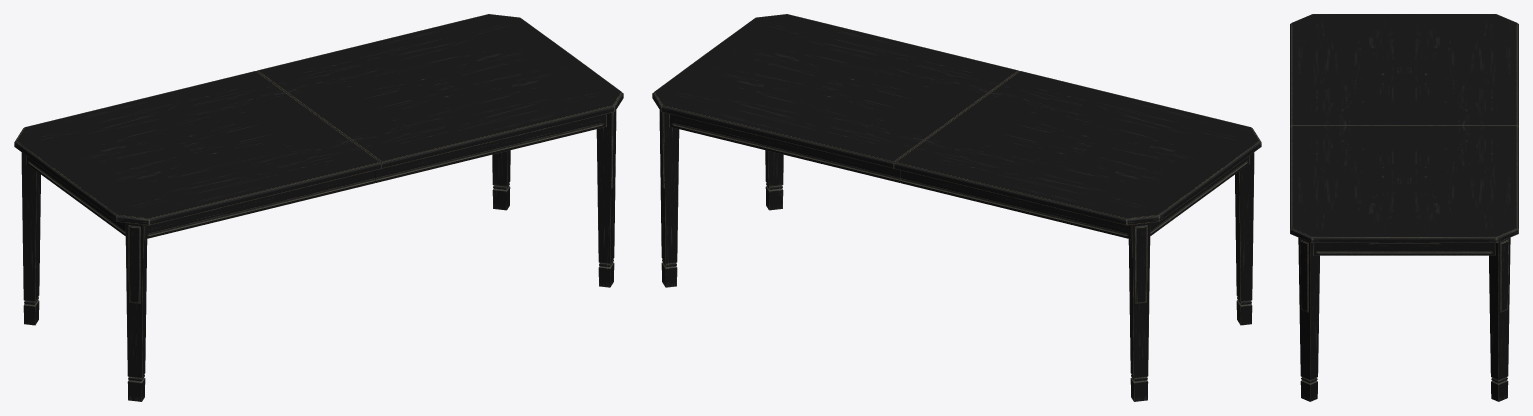
The model's file is example87.glb.
3 views of the same model, side by side, from view 1: azimuth 30°, elevation 25°; view 2: azimuth 150°, elevation 25°; view 3: azimuth 270°, elevation 25° (orthographic). The views are drawn at different scales.
Visible parts, largest first — view 1: Buffer Layer; view 2: Buffer Layer; view 3: Buffer Layer.
Part boxes in pixels (left/top/right/bottom): Buffer Layer: left=14, top=14, right=623, bottom=401; Buffer Layer: left=652, top=14, right=1261, bottom=401; Buffer Layer: left=1290, top=14, right=1518, bottom=401.
Bounding box in the file's own units: 3.12 × 1.1 × 1.35.
Materials: 2 (1 with a texture image).
